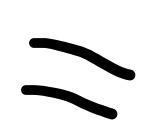eqv: (17, 34, 139, 121)
